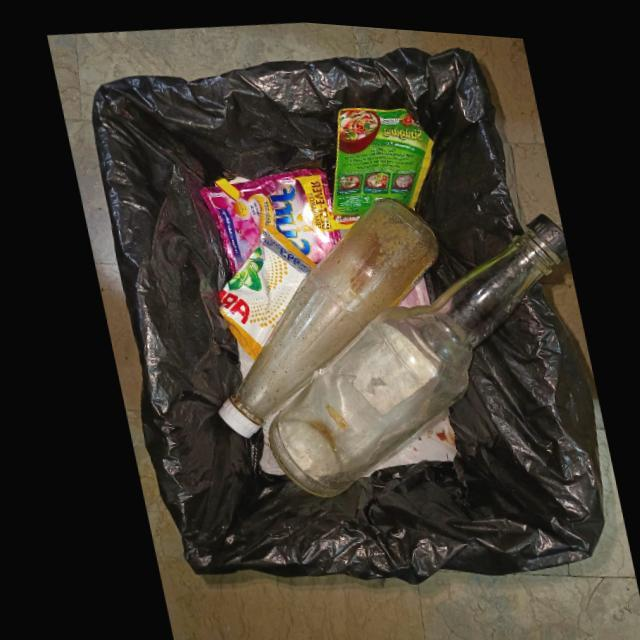glass: (258, 205, 564, 493), (210, 191, 434, 433)
wrapper: (195, 162, 337, 271), (212, 220, 311, 356), (325, 101, 431, 224)
